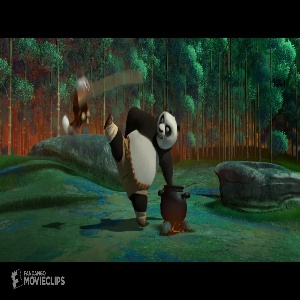po: (103, 95, 178, 228)
shifu: (60, 75, 92, 137)
